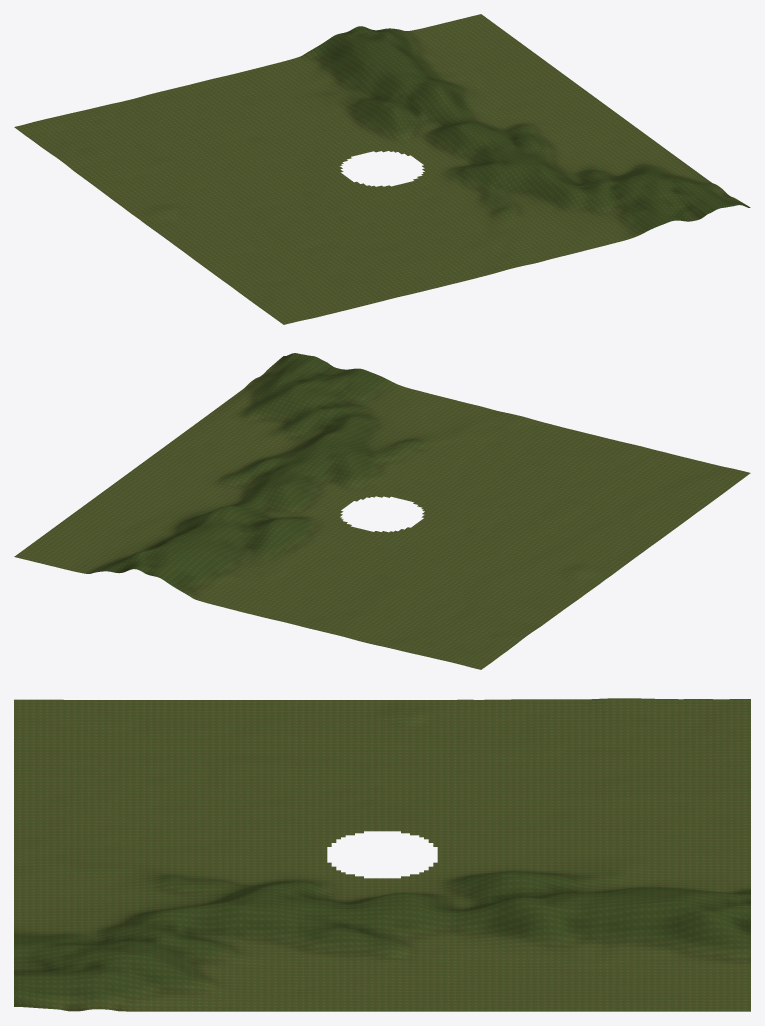
File: rtp_terrain.glb
3 views of the same model, one above another, from view 1: azimuth 30°, elevation 25°; view 2: azimuth 150°, elevation 25°; view 3: azimuth 270°, elevation 25° (orthographic). The views are drawn at different scales.
Visible parts, largest first — view 1: terrain; view 2: terrain; view 3: terrain.
Boxes of the visible parts, box(x1,y1,x2,y2) form: terrain: box(14, 14, 750, 324); terrain: box(14, 353, 750, 669); terrain: box(14, 698, 750, 1011).
Bounding box in the file's own units: 6400 × 275 × 6400.
1 material, 1 textured.
